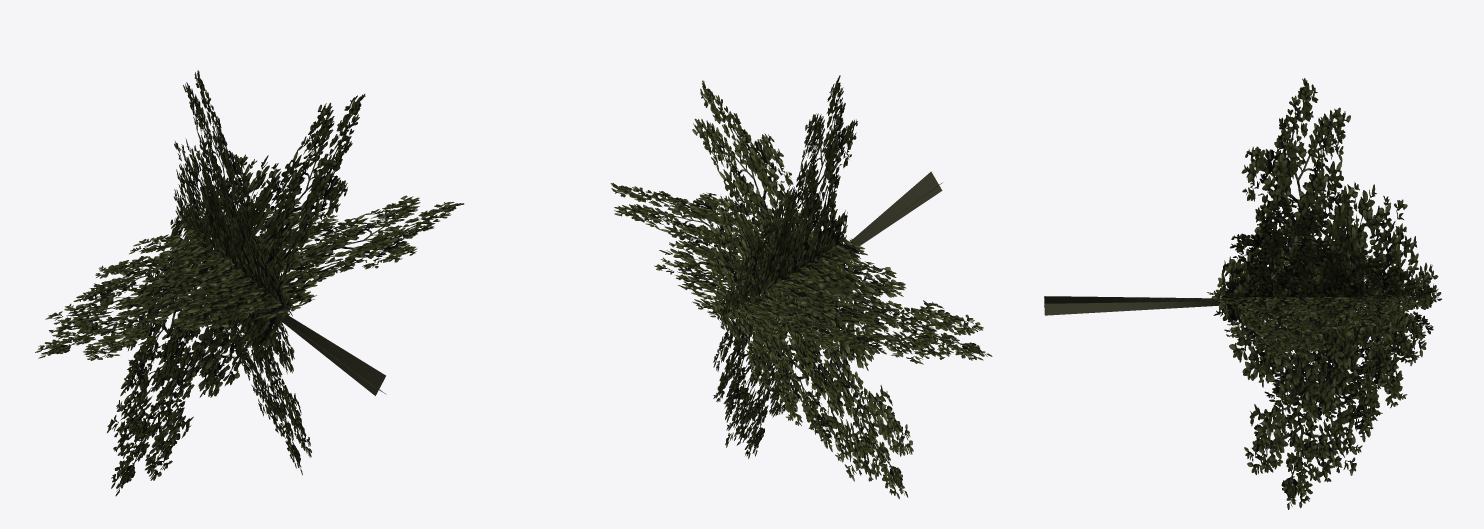
Rendered from MEP_Tree_02_a_LOD_01.fbx.
The picture shows the model from 3 angles, left to right: view 1: azimuth 30°, elevation 25°; view 2: azimuth 150°, elevation 25°; view 3: azimuth 270°, elevation 25°; orthographic projection. The views are drawn at different scales.
Visible parts, largest first — view 1: MEP_Leafs_02_a_LOD_01; view 2: MEP_Leafs_02_a_LOD_01; view 3: MEP_Leafs_02_a_LOD_01.
Part boxes in pixels (x1=…): MEP_Leafs_02_a_LOD_01: x1=35, y1=70, x2=464, y2=496; MEP_Leafs_02_a_LOD_01: x1=610, y1=75, x2=992, y2=499; MEP_Leafs_02_a_LOD_01: x1=1044, y1=78, x2=1441, y2=509.
Bounding box in the file's own units: 18.3 × 18.04 × 15.48.
